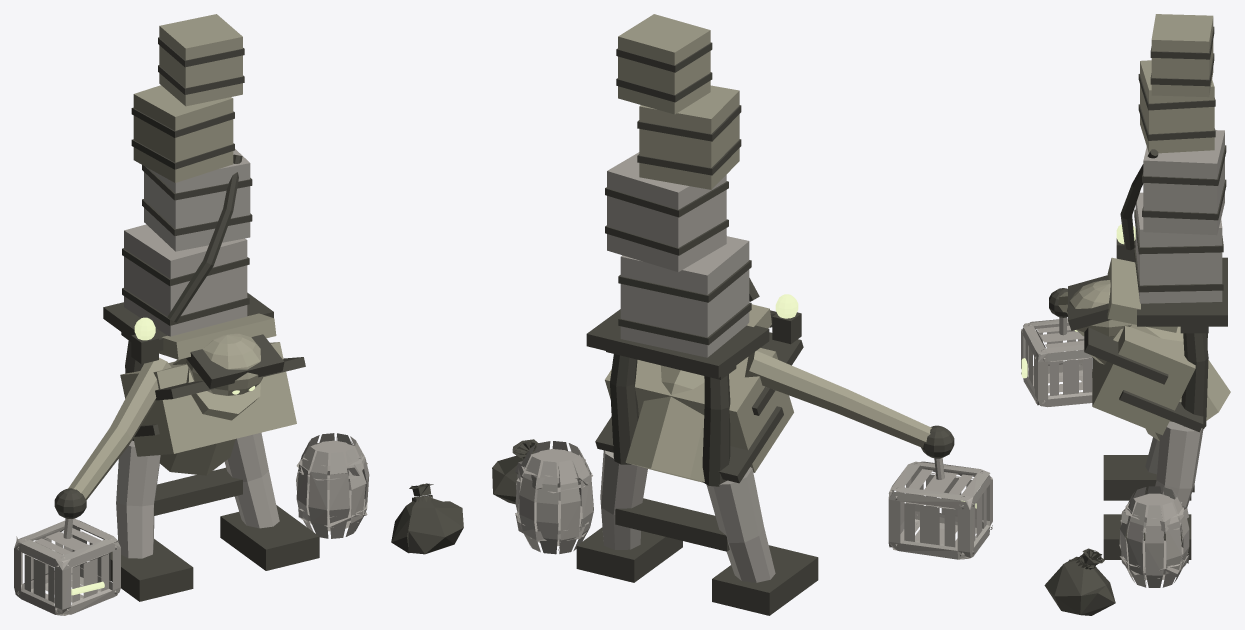
File: loader.glb
3 renders of one model, left to right at view 1: azimuth 30°, elevation 25°; view 2: azimuth 150°, elevation 25°; view 3: azimuth 270°, elevation 25°, orthographic. The views are drawn at different scales.
Visible parts, largest first — view 1: loader_bone, loader_body, loader_dark, loader_glow; view 2: loader_bone, loader_dark, loader_body; view 3: loader_bone, loader_dark, loader_body.
Boxes of the visible parts, box(x1,y1,x2,y2) form: loader_bone: box(14, 149, 369, 615); loader_body: box(68, 14, 296, 500); loader_dark: box(54, 37, 463, 601); loader_glow: box(71, 317, 254, 595); loader_bone: box(515, 152, 992, 582); loader_dark: box(492, 42, 954, 615); loader_body: box(605, 14, 931, 482); loader_bone: box(1021, 130, 1224, 587); loader_dark: box(1044, 26, 1227, 615); loader_body: box(1058, 14, 1230, 440).
Size of the model in its own units: 2.39 by 2.65 by 1.02.
